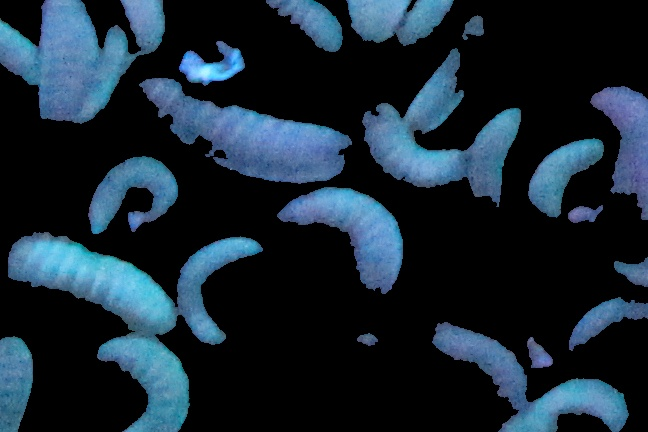larvae: (1, 219, 181, 350), (137, 82, 353, 189), (266, 186, 412, 306), (173, 219, 263, 357), (520, 130, 606, 235), (364, 103, 465, 189), (38, 1, 103, 126), (81, 156, 181, 237), (99, 344, 189, 432), (466, 88, 517, 226), (266, 1, 348, 50), (1, 334, 34, 432), (1, 8, 41, 88)
